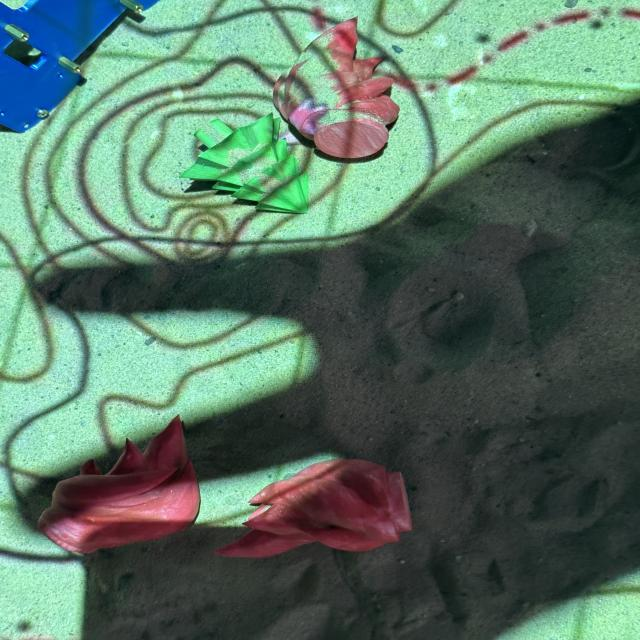fire: (35, 418, 205, 560), (212, 459, 417, 560), (274, 18, 406, 160)
tree: (178, 114, 313, 218)
